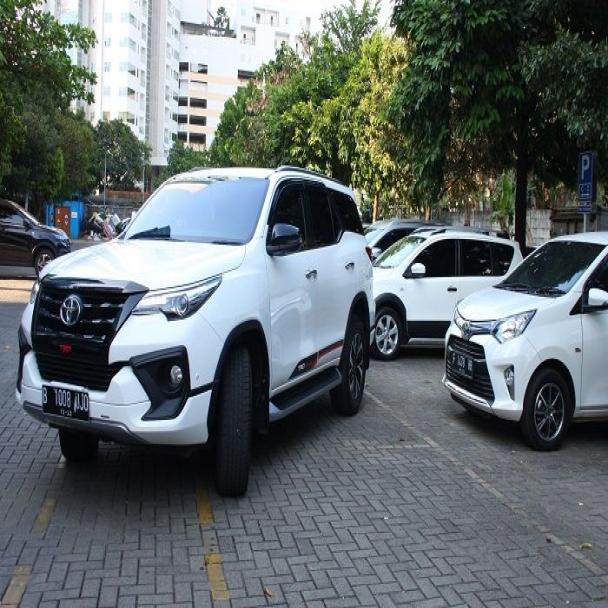Mobil: (16, 164, 373, 495), (443, 236, 608, 446), (371, 230, 524, 358), (0, 183, 70, 281)
